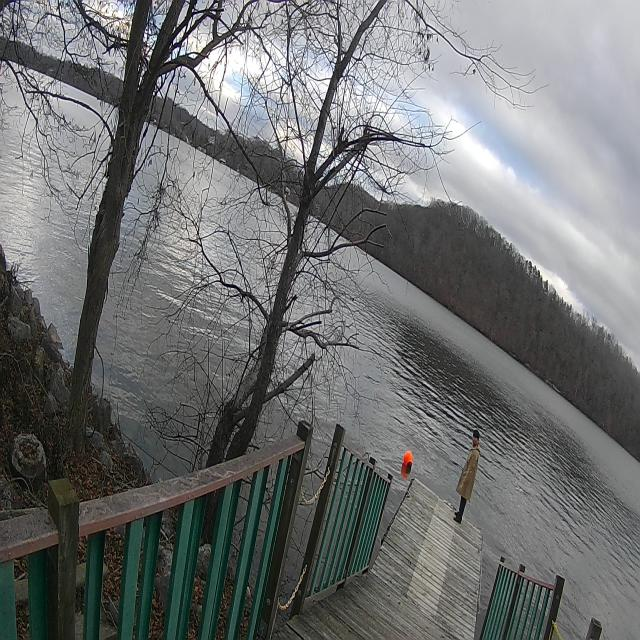Buoy: (401, 444, 414, 476)
